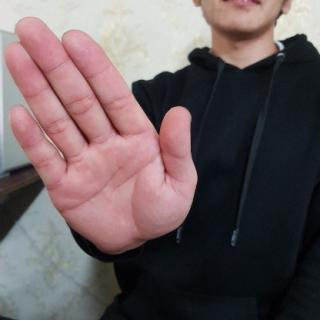SEEN: (3, 14, 206, 255)
